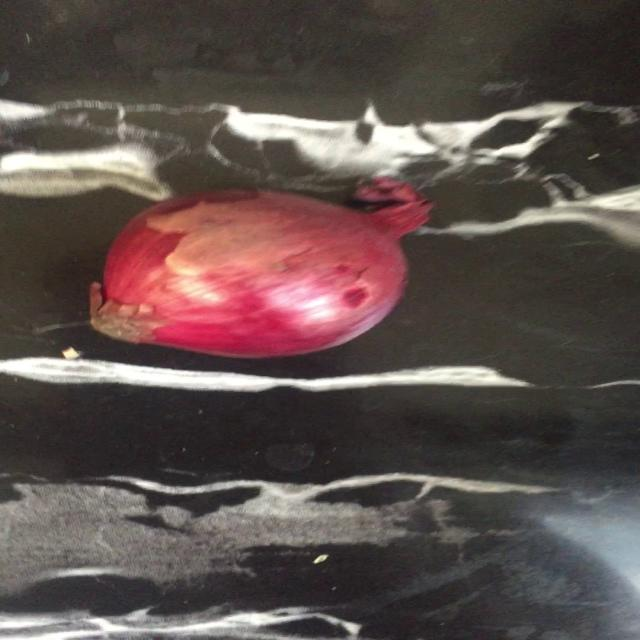Onion: (89, 178, 432, 358)
